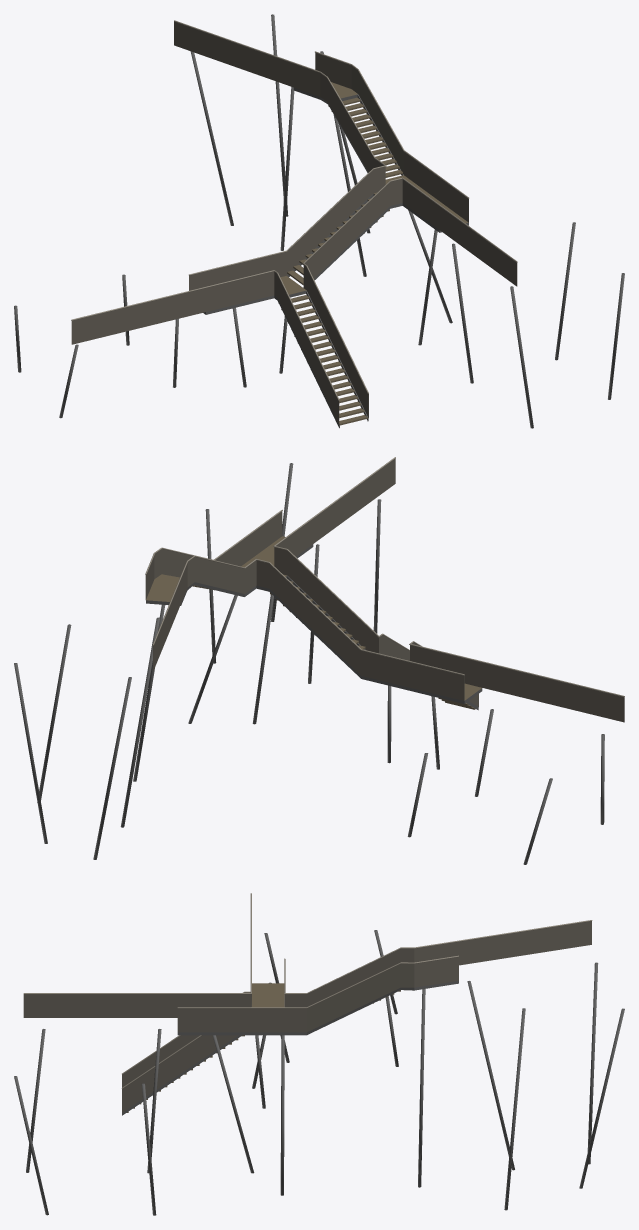
File: 3erLeitern.obj
3 renders of one model, top to bottom at view 1: azimuth 30°, elevation 25°; view 2: azimuth 150°, elevation 25°; view 3: azimuth 270°, elevation 25°, orthographic. The views are drawn at different scales.
Parts seen in each view (by area): view 1: Treppen_Mesh.026; view 2: Treppen_Mesh.026; view 3: Treppen_Mesh.026.
Part boxes in pixels (bbox=[...]): Treppen_Mesh.026: bbox=[14, 14, 624, 428]; Treppen_Mesh.026: bbox=[14, 457, 624, 864]; Treppen_Mesh.026: bbox=[14, 893, 624, 1215].
Bounding box in the file's own units: 15.4 × 7.12 × 18.21.
